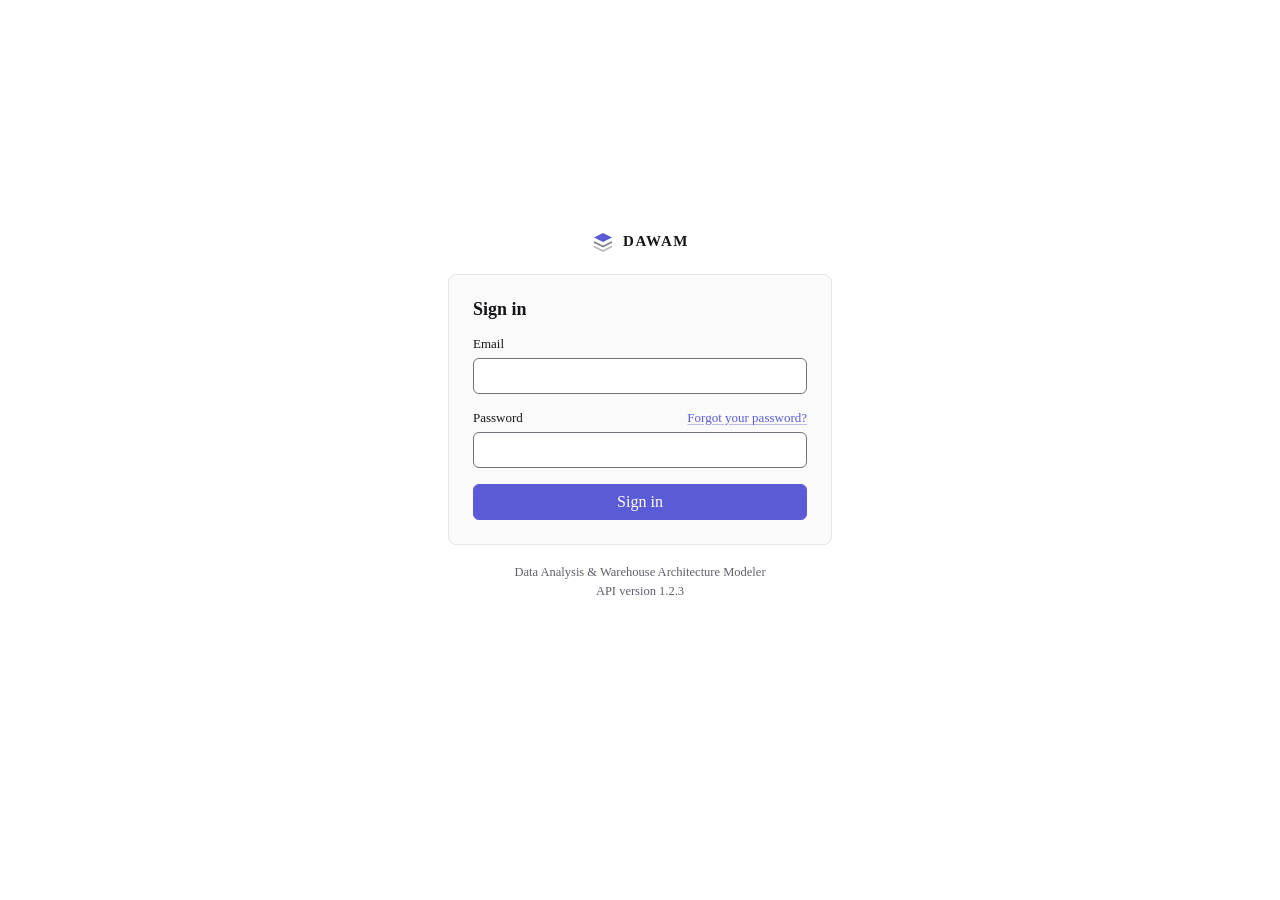
signing in › signs in with email and password, sending the CSRF token
Step 1. Type "ada@example.com" into the field labelled "Email" → (640, 376), box [473,358,807,394]
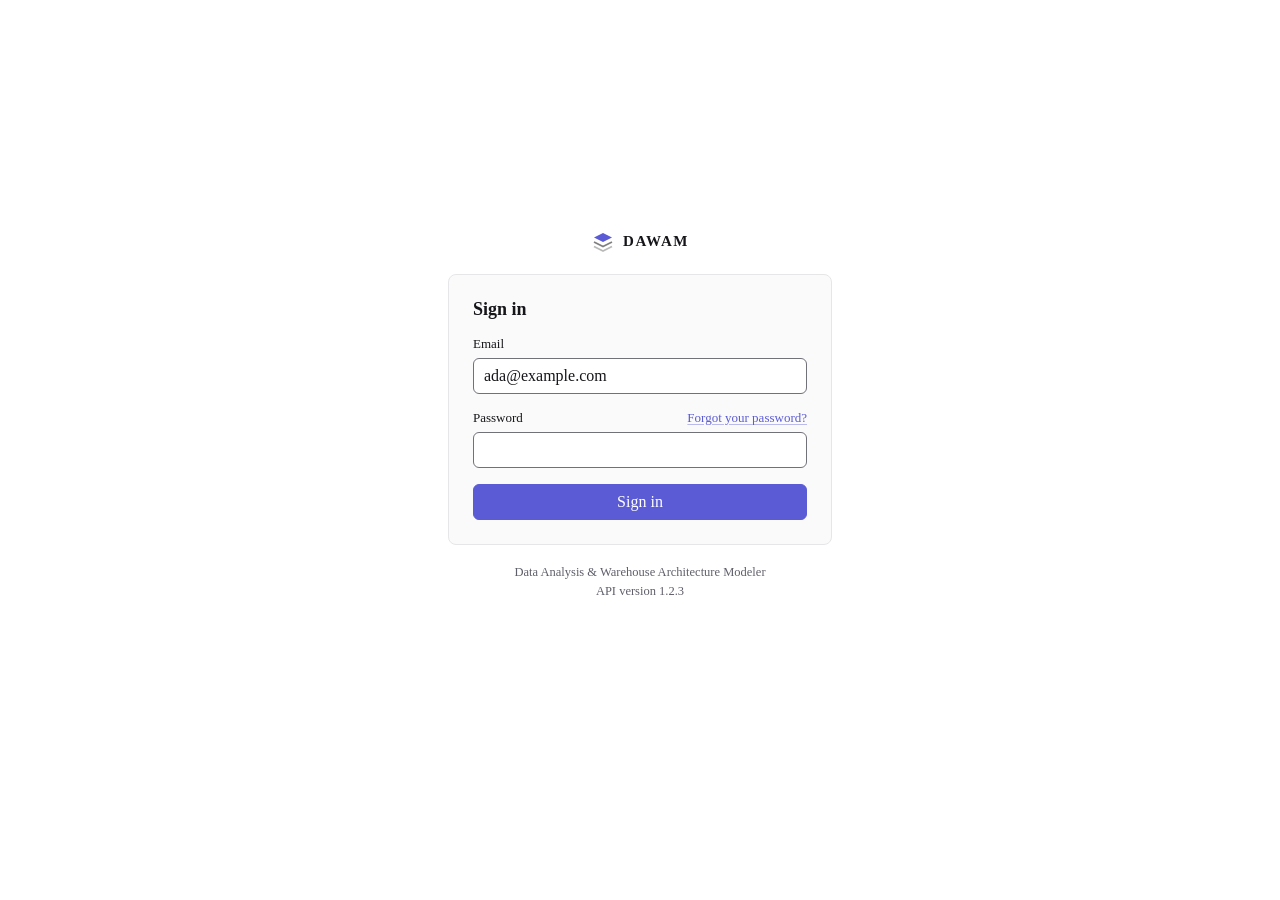
Step 2. Type "analytical engine" into the password field labelled "Password" → (640, 450), box [473,432,807,468]
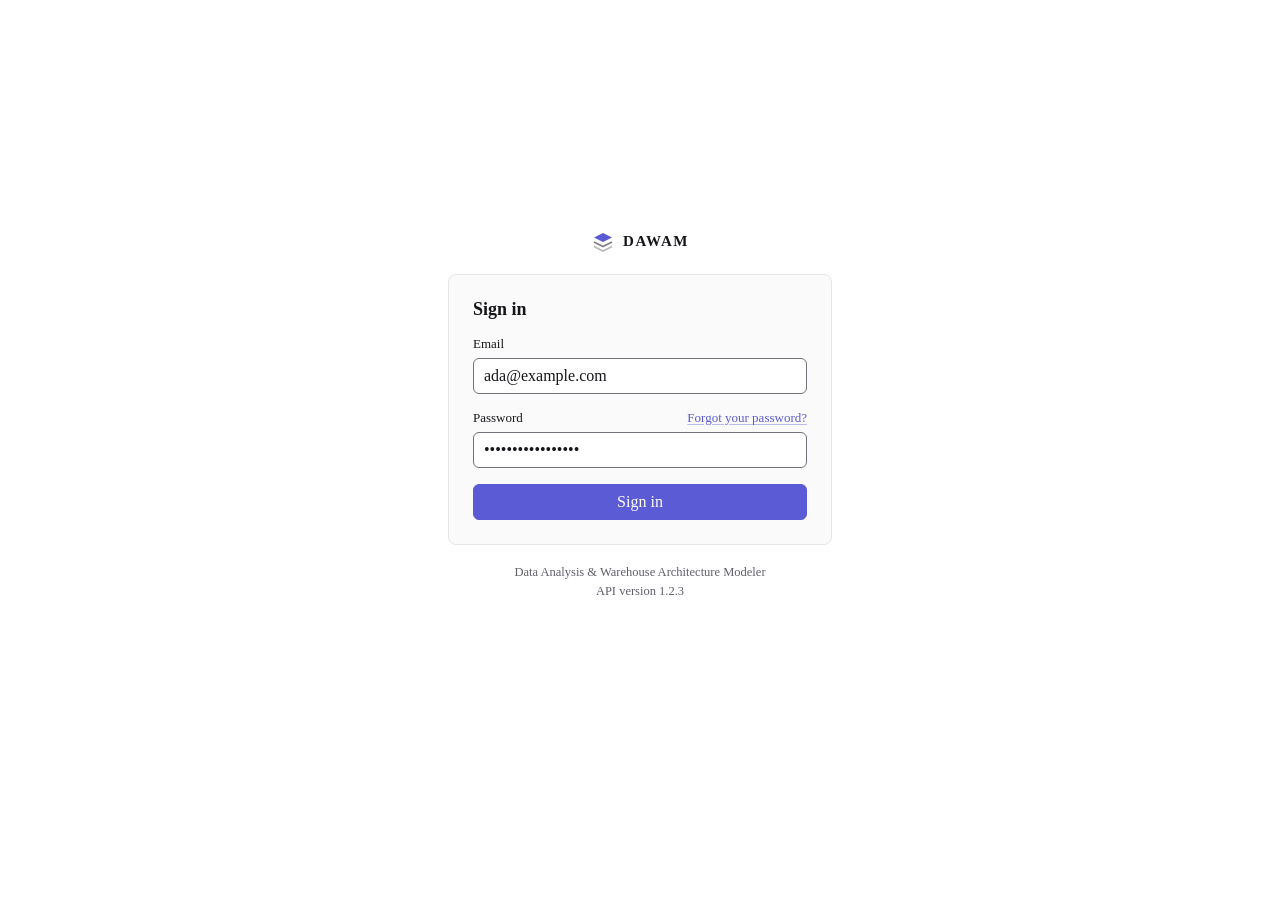
Step 3. Click the button "Sign in" → click(640, 502), box [473,484,807,520]
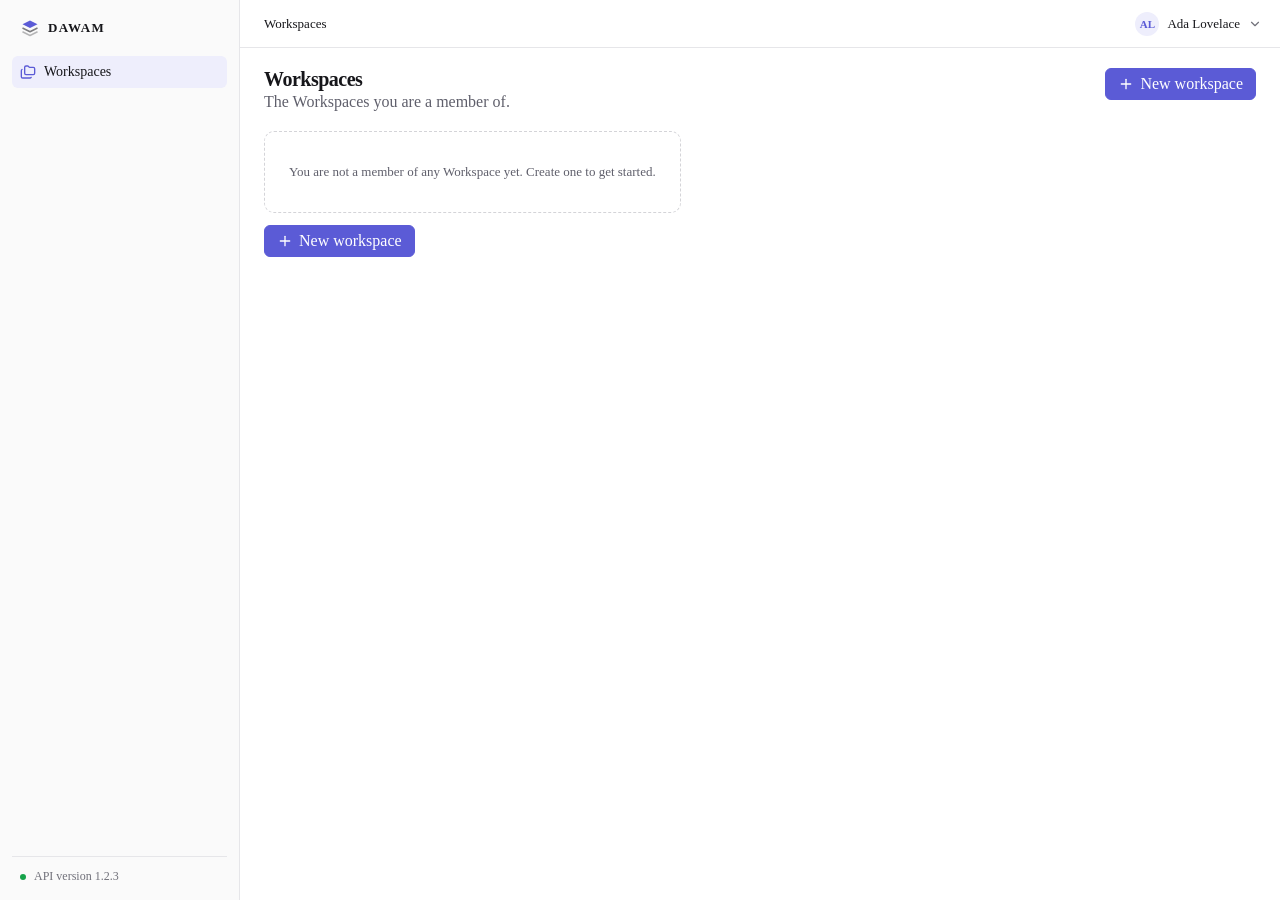
Expected: the text "Ada Lovelace" is shown, [1168,16,1240,32]
Expected: the heading "Workspaces" is shown, [264,68,362,90]
